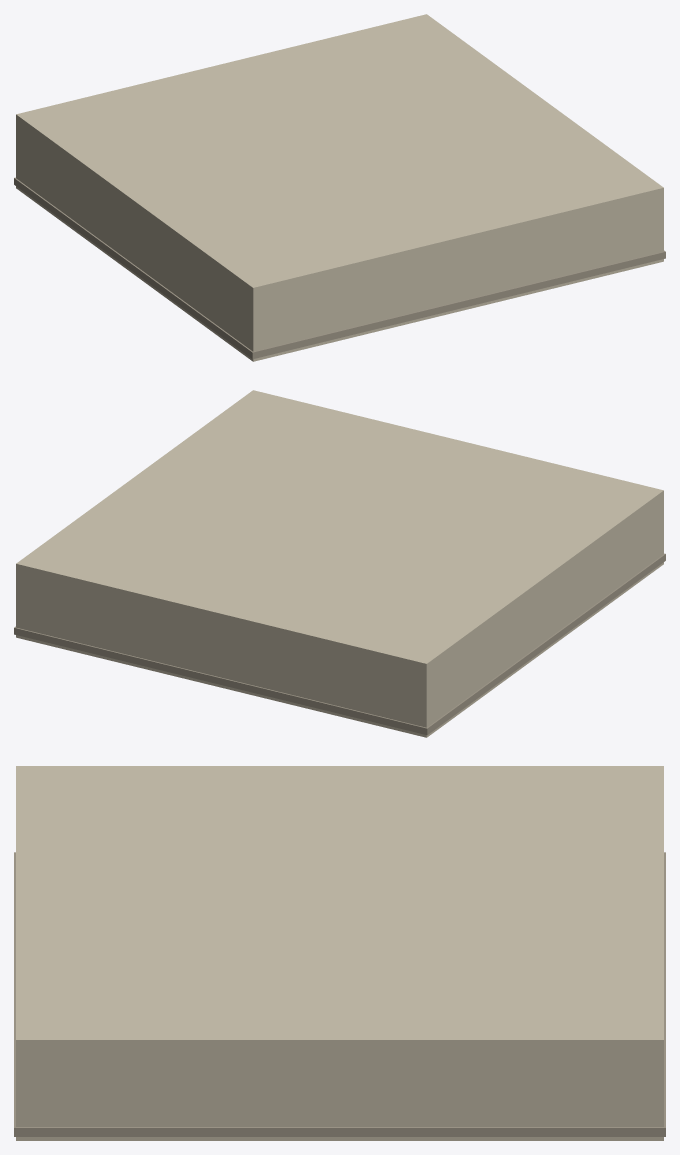
The model's file is tw_deco_32_crown_lod1.glb.
3 views of the same model, one above another, from view 1: azimuth 30°, elevation 25°; view 2: azimuth 150°, elevation 25°; view 3: azimuth 270°, elevation 25° (orthographic). The views are drawn at different scales.
Parts seen in each view (by area): view 1: tw_deco_32_crown_lod1; view 2: tw_deco_32_crown_lod1; view 3: tw_deco_32_crown_lod1.
Part boxes in pixels (box(x1,y1,x2,y2)): tw_deco_32_crown_lod1: box(14, 14, 665, 361); tw_deco_32_crown_lod1: box(14, 390, 665, 737); tw_deco_32_crown_lod1: box(14, 766, 665, 1140).
Bounding box in the file's own units: 32.2 × 5.5 × 32.2.
2 materials, 2 textured.
